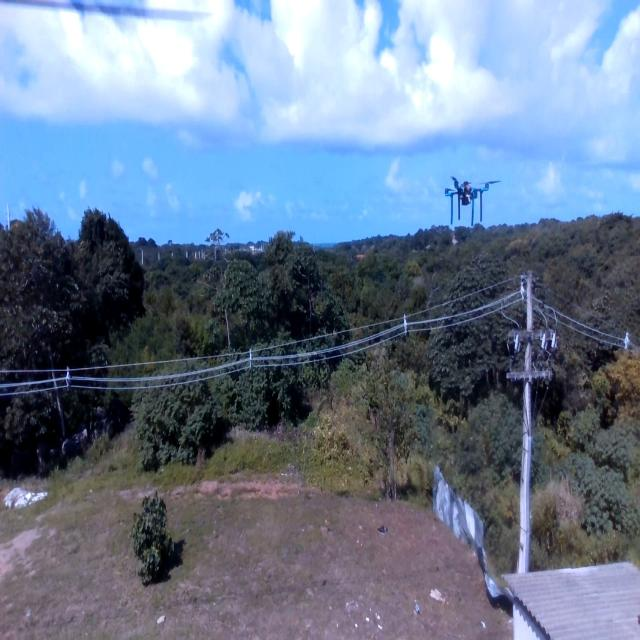-uav-: (434, 148, 509, 245)
